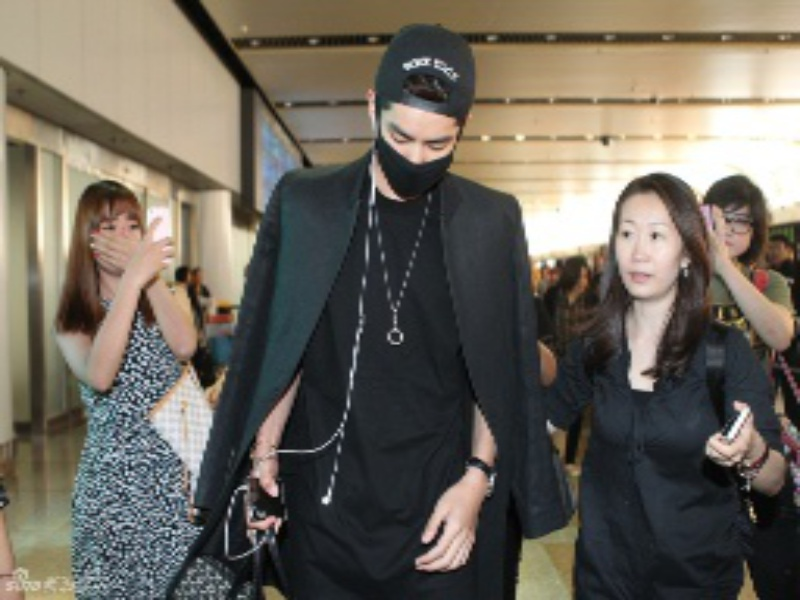ManaoArotava: (354, 16, 489, 213)
TsisyArotava: (594, 169, 690, 318)
